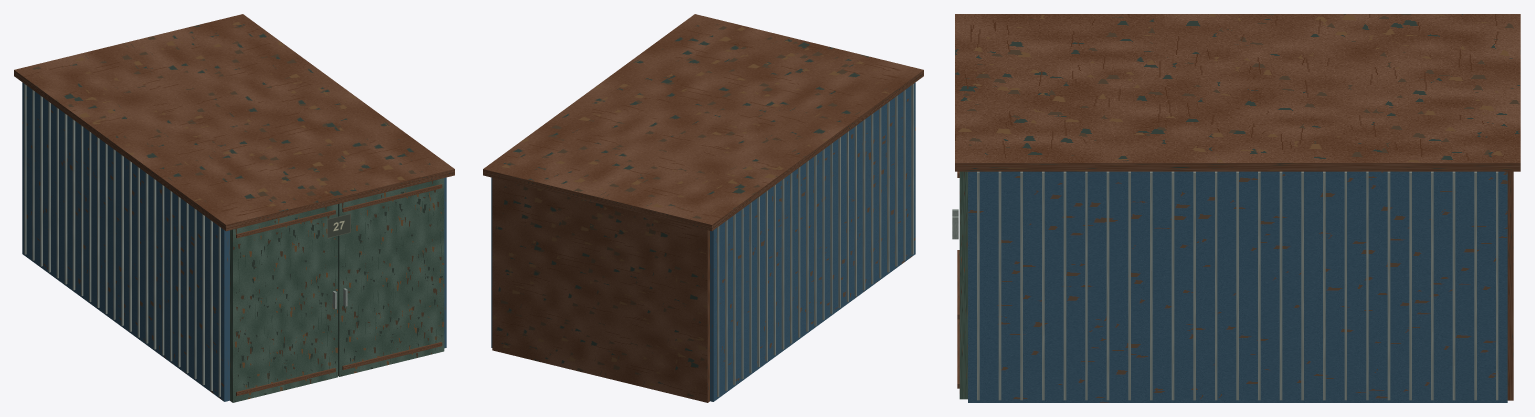
The model's file is CIS_Garage.obj.
3 renders of one model, left to right at view 1: azimuth 30°, elevation 25°; view 2: azimuth 150°, elevation 25°; view 3: azimuth 270°, elevation 25°, orthographic. The views are drawn at different scales.
Parts seen in each view (by area): view 1: CIS_Garage; view 2: CIS_Garage; view 3: CIS_Garage.
Part boxes in pixels (left/top/right/bottom): CIS_Garage: left=14, top=14, right=454, bottom=402; CIS_Garage: left=483, top=14, right=923, bottom=402; CIS_Garage: left=952, top=14, right=1520, bottom=402.
Bounding box in the file's own units: 3.4 × 2.58 × 5.47.
Materials: 5 (5 with a texture image).
